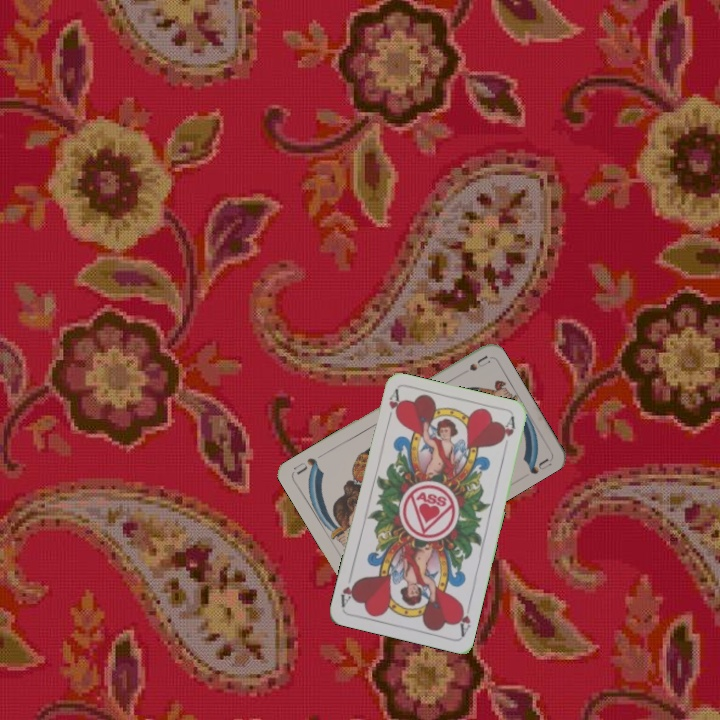HA: (453, 598, 473, 638), (383, 386, 403, 426)
SU: (453, 351, 492, 380)
